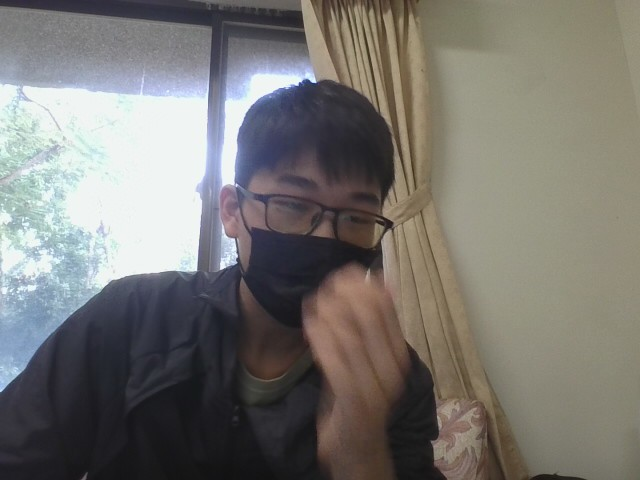No_Helmet: (228, 75, 400, 244)
person: (0, 61, 504, 480)
